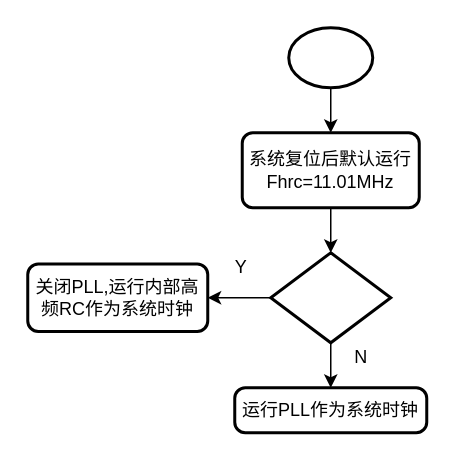
This 453x459 diagram has some shape labels left out. The centre of each missing label's shape, as x and y in pixels:
低功耗？: point 330,297
开始: point 330,57
